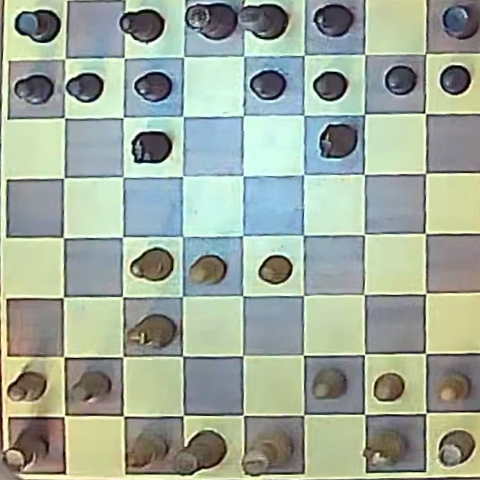black-bishop: (119, 9, 165, 44), (313, 4, 354, 38)
black-king: (238, 4, 287, 40)
black-knight: (318, 124, 357, 158), (131, 131, 172, 163)
black-pawn: (14, 74, 54, 105), (134, 71, 172, 102), (66, 72, 105, 102), (250, 69, 286, 100), (439, 64, 471, 95), (384, 65, 417, 95), (313, 71, 347, 100)
black-queen: (185, 3, 238, 40)
black-rook: (15, 9, 60, 43), (441, 4, 479, 39)
white-bishop: (130, 248, 174, 281), (126, 435, 168, 469)
white-king: (242, 428, 295, 477)
white-knight: (362, 429, 406, 467), (127, 314, 176, 348)
white-pawn: (70, 371, 110, 403), (188, 255, 226, 286), (8, 371, 47, 401), (312, 368, 346, 399), (259, 255, 293, 285), (437, 374, 469, 403), (374, 373, 405, 401)
white-queen: (174, 430, 227, 474)
white-rook: (4, 429, 48, 470), (437, 431, 474, 467)
